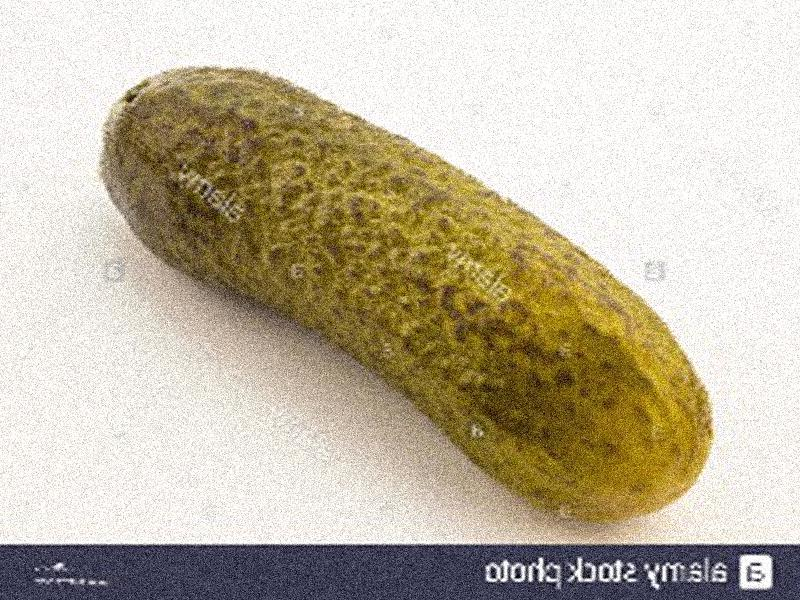Cucumber: (101, 69, 714, 518)
